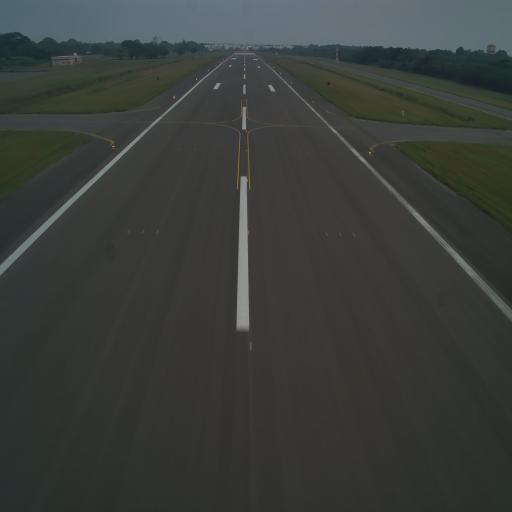off: (125, 226, 133, 238), (336, 227, 344, 238), (323, 230, 330, 242), (140, 226, 146, 238), (350, 228, 356, 239), (154, 227, 160, 237), (289, 149, 293, 155), (185, 146, 188, 152), (177, 146, 180, 151), (193, 147, 196, 152), (298, 149, 301, 154), (306, 149, 309, 154)
on: (245, 336, 255, 356), (245, 228, 250, 239), (245, 176, 250, 186), (367, 148, 373, 156), (111, 142, 115, 150), (245, 146, 249, 153), (244, 128, 248, 134)
